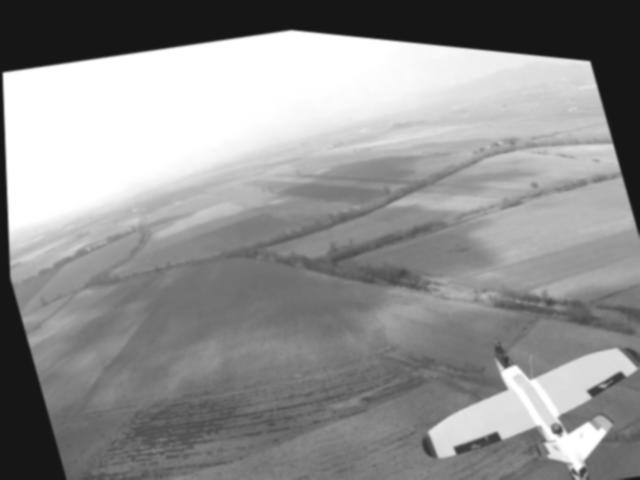hedef: (366, 258, 640, 480)
